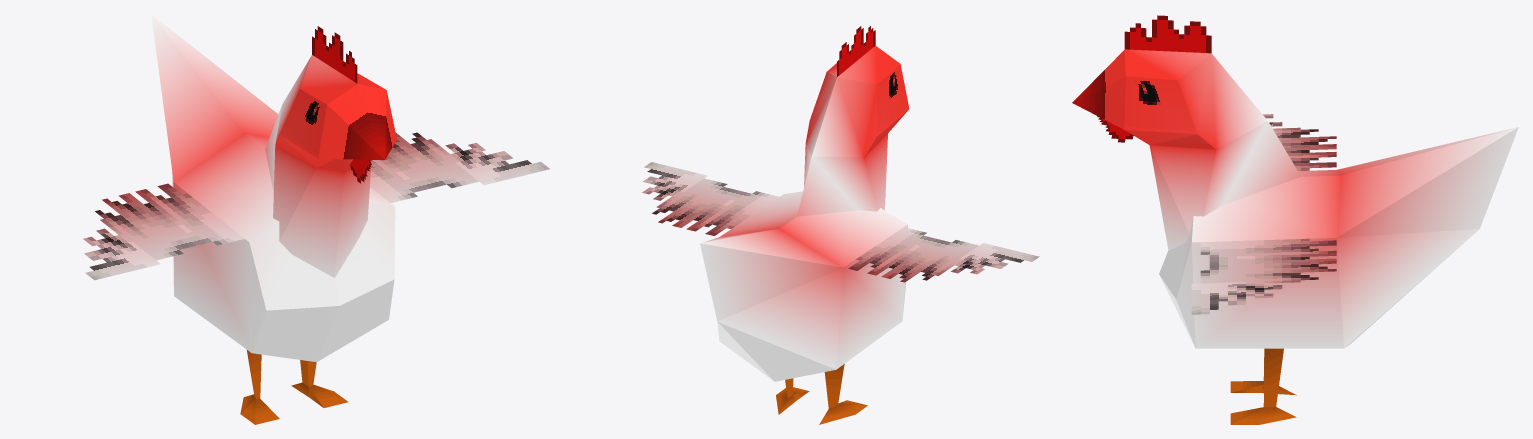
The model's file is PF_Chicken_Friend.glb.
3 views of the same model, side by side, from view 1: azimuth 30°, elevation 25°; view 2: azimuth 150°, elevation 25°; view 3: azimuth 270°, elevation 25° (orthographic). The views are drawn at different scales.
Parts seen in each view (by area): view 1: Chicken; view 2: Chicken; view 3: Chicken.
Boxes of the visible parts, left/top/right/bottom form: Chicken: left=83, top=14, right=549, bottom=424; Chicken: left=642, top=26, right=1039, bottom=424; Chicken: left=1072, top=15, right=1518, bottom=424.
Bounding box in the file's own units: 1.31 × 1.11 × 1.14.
1 material, 1 textured.
